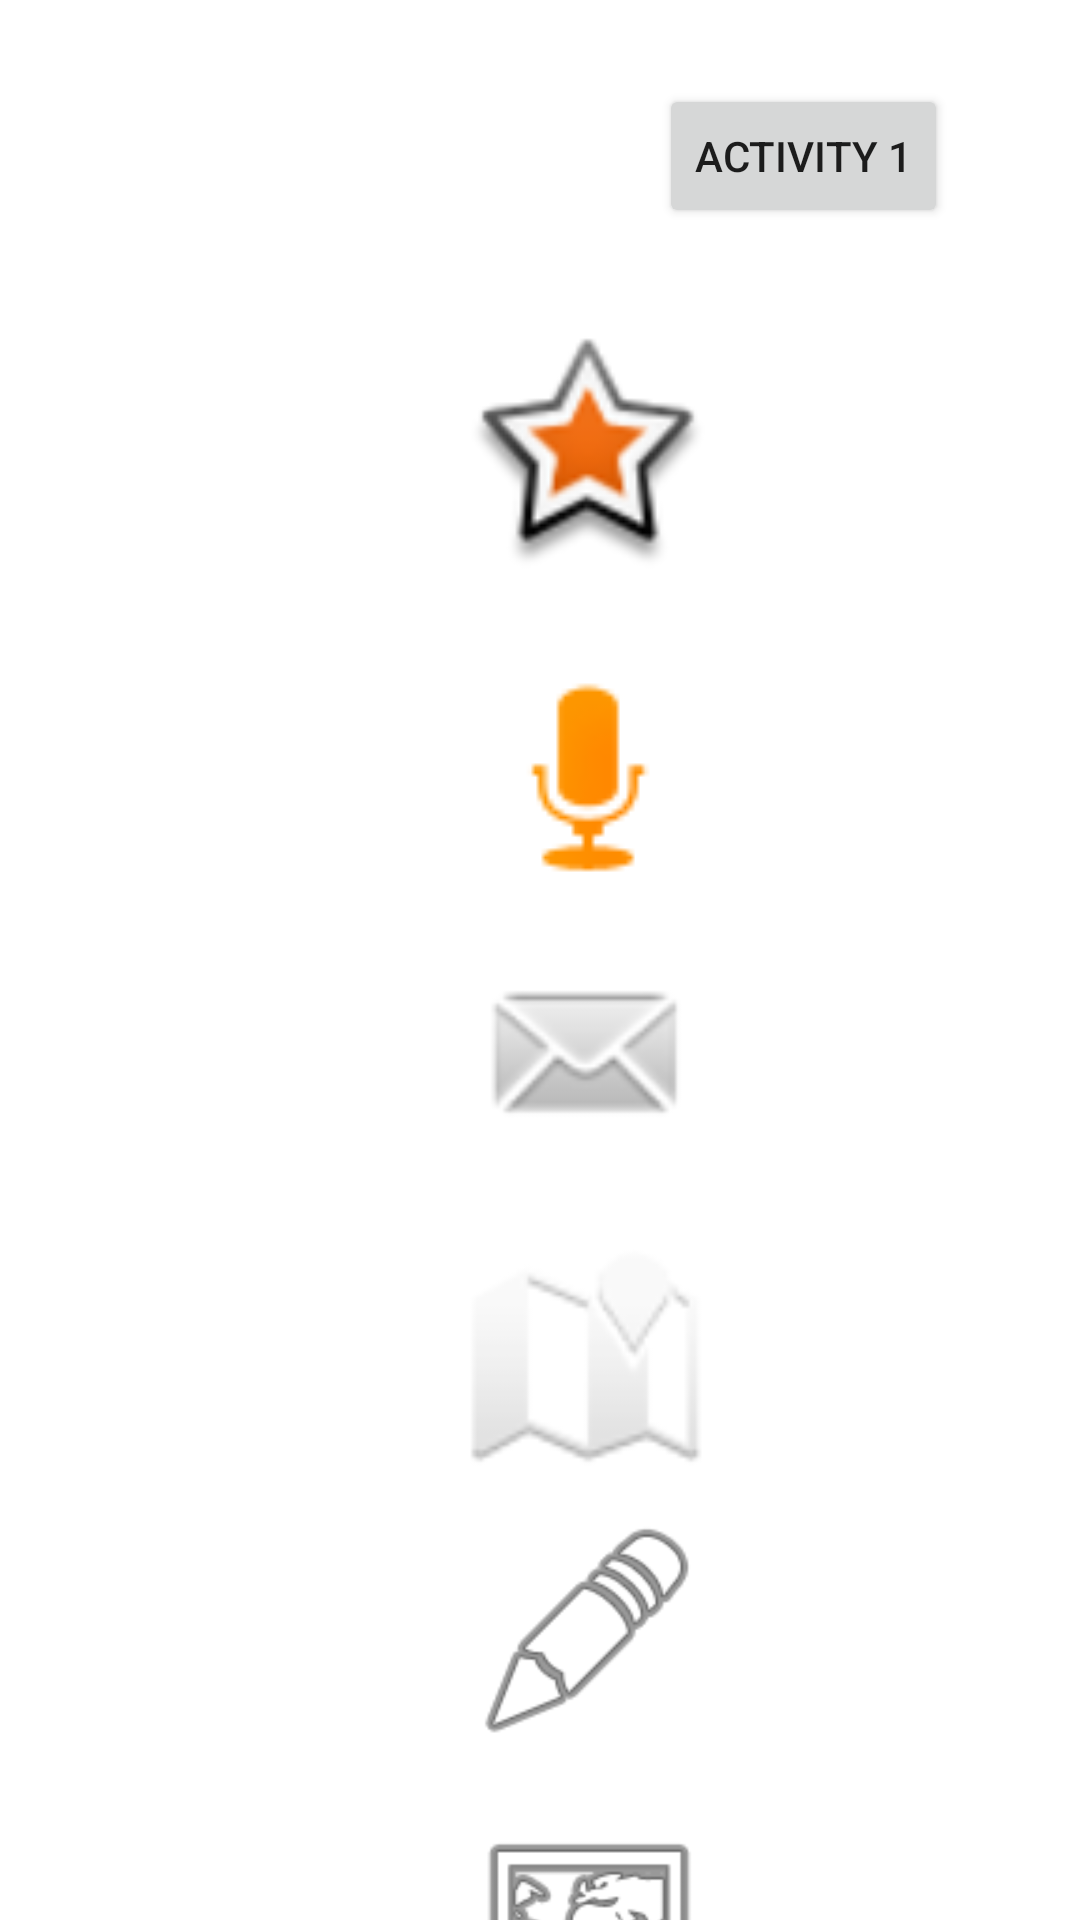

Named icons in this screenshot (1080 × 1920) and their centers, (x,y):
edit: (587,1630)
map: (585,1369)
presence audio away: (589,778)
star on: (587,448)
sym action email: (585,1052)
